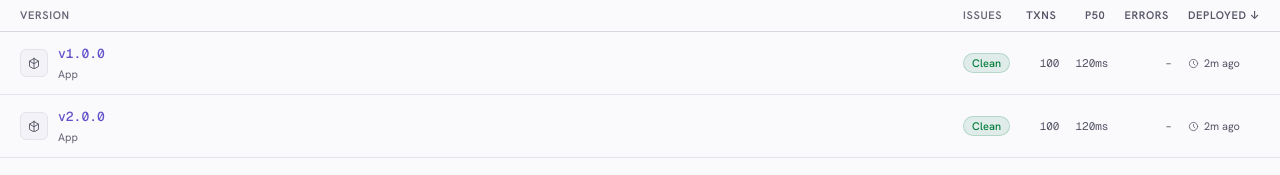
Test: ReleasesView › sorting › shows up-arrow icon (↑) for version column after first click (defaults to asc)
Step 1. Click the button with class "col-sort" showing "Version" → (45, 15), box [20,7,947,24]
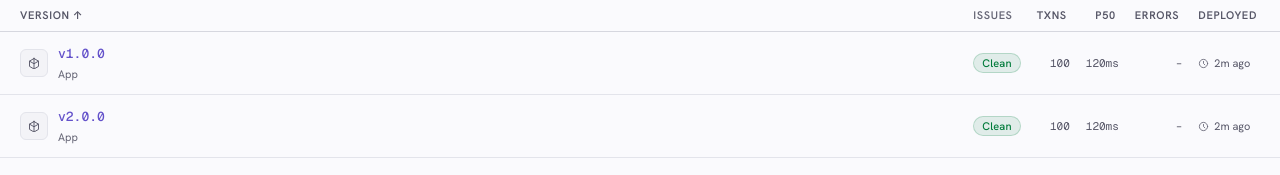
expect the icon with class "col-sort__icon" reads "↑": met, box [73,8,83,22]
